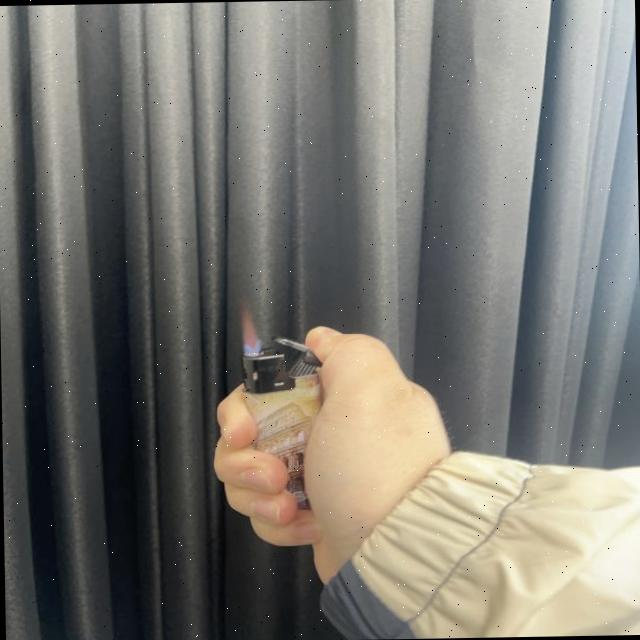fire: (236, 302, 264, 355)
